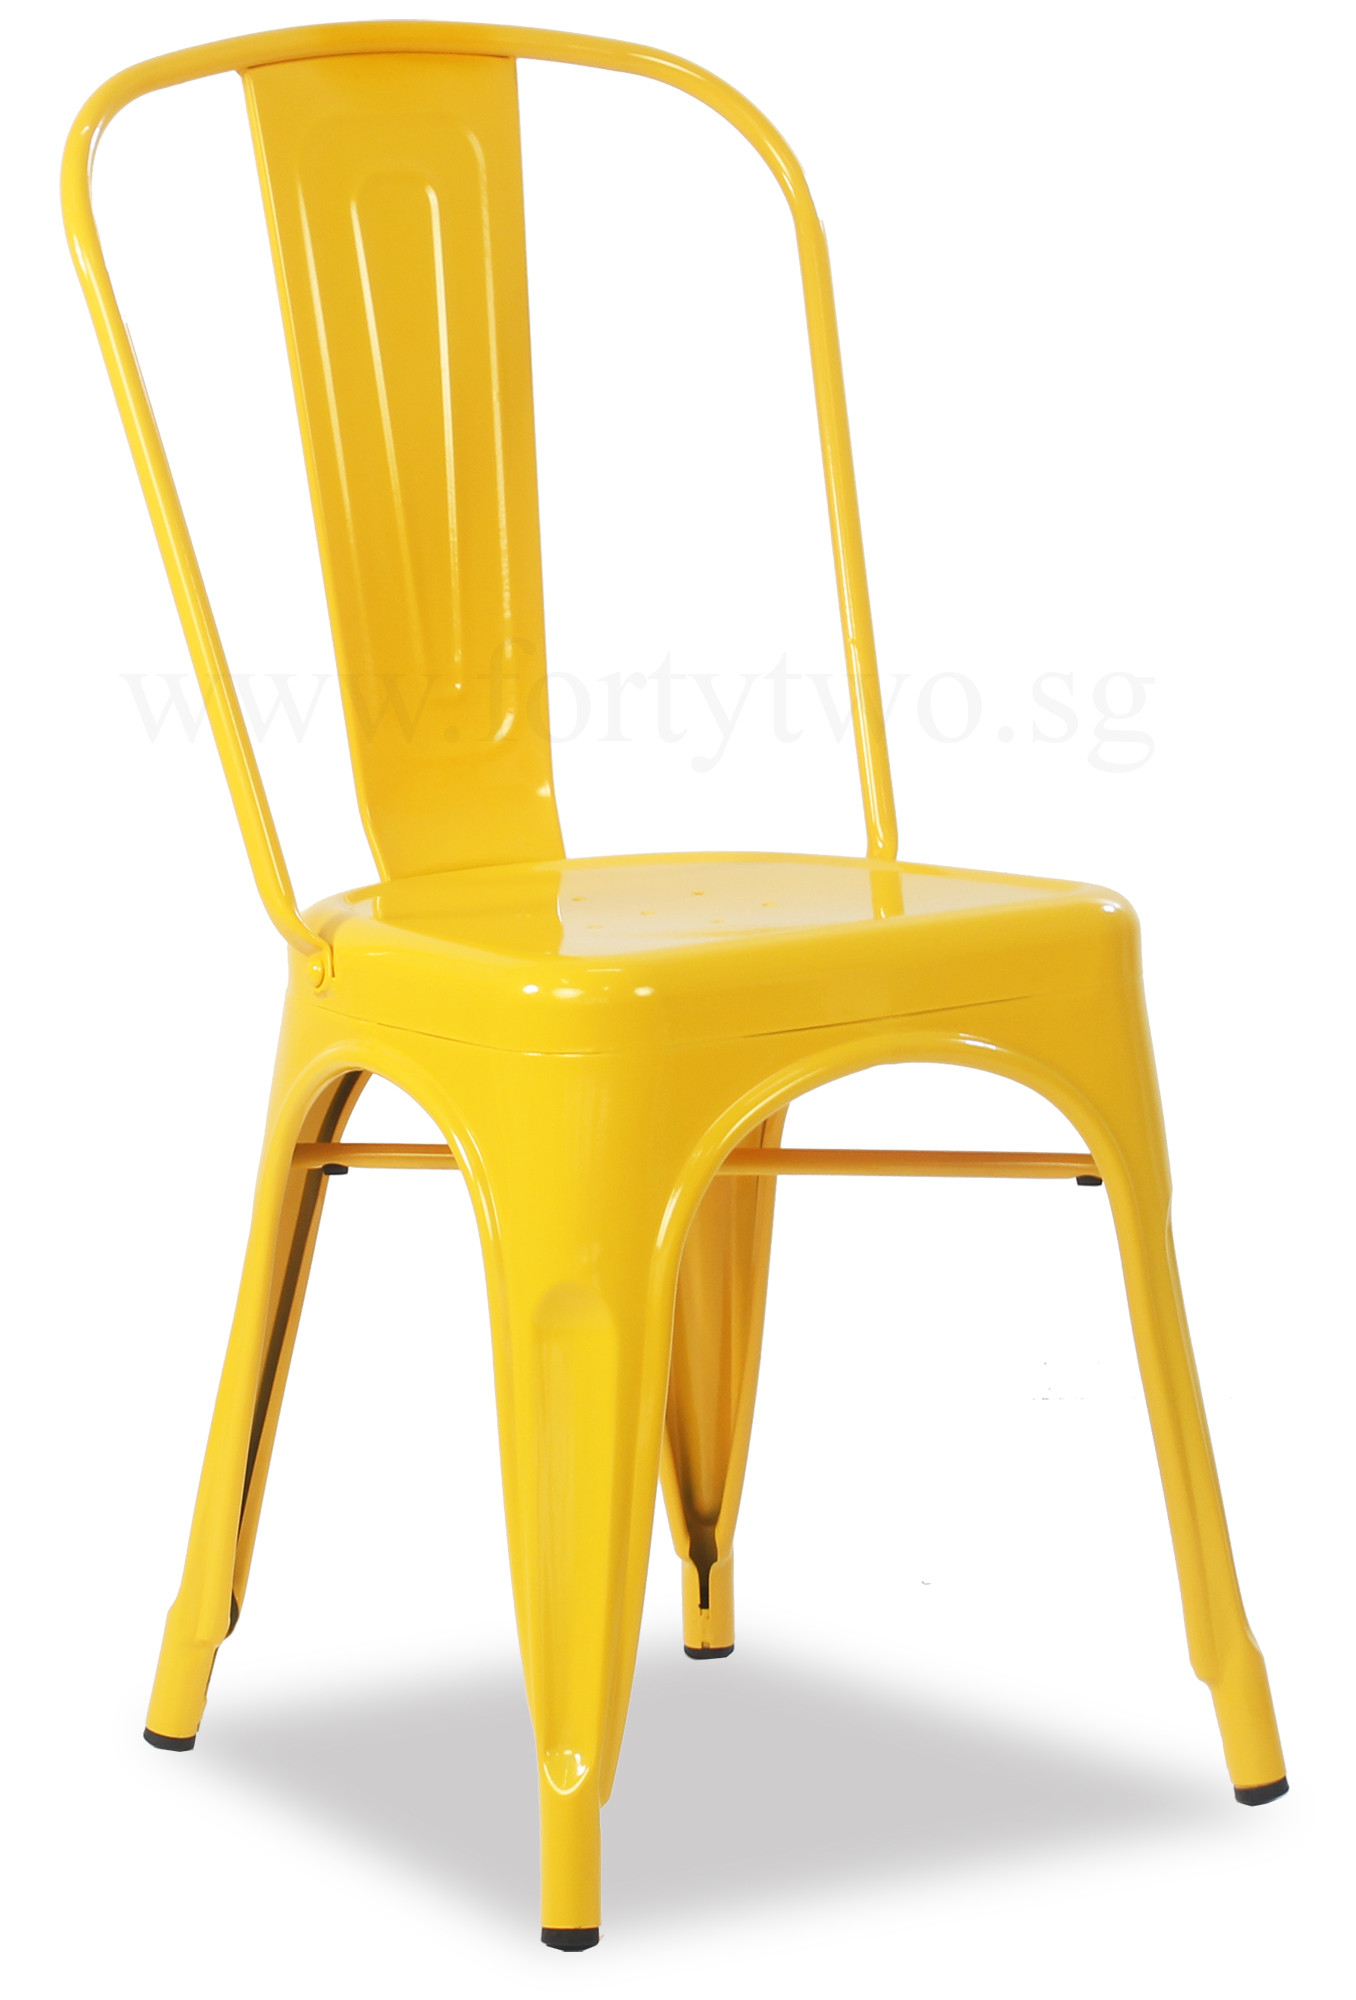chairs: (42, 15, 1314, 1967)
